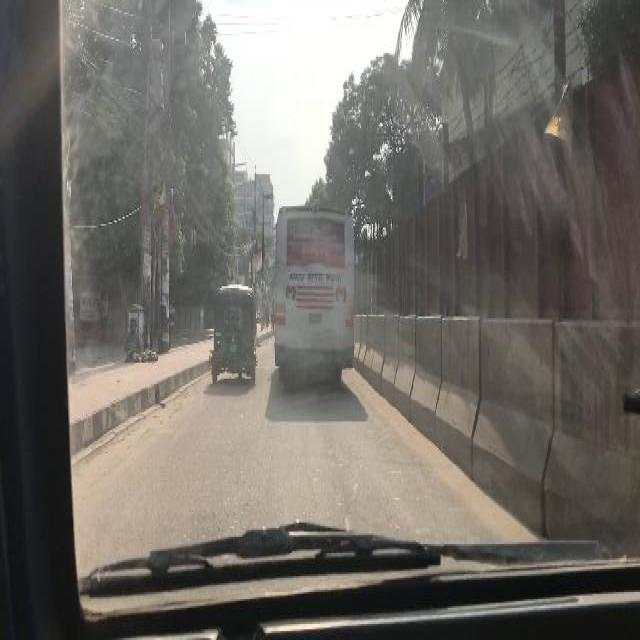bus: (272, 197, 358, 393)
motorcycle: (207, 281, 258, 389)
